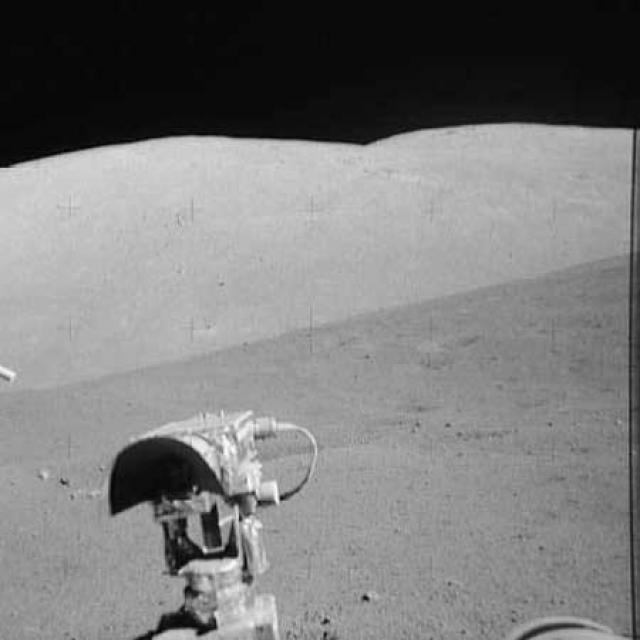artifact: (94, 401, 330, 639)
crater: (50, 418, 412, 480), (453, 407, 631, 466)
